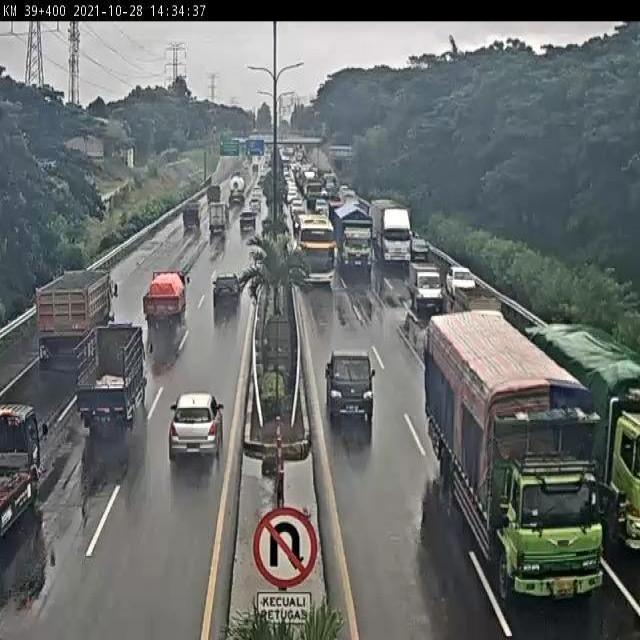big bus: (292, 211, 337, 288)
big truck: (427, 307, 608, 601), (528, 317, 640, 548), (371, 199, 413, 265), (335, 205, 373, 271)
car: (168, 392, 224, 467), (323, 348, 377, 419), (409, 260, 443, 312), (212, 273, 245, 312), (447, 266, 480, 302), (180, 201, 201, 231), (238, 209, 257, 232)
small truck: (73, 319, 155, 436), (35, 269, 118, 368), (143, 270, 193, 326), (207, 204, 226, 237)
